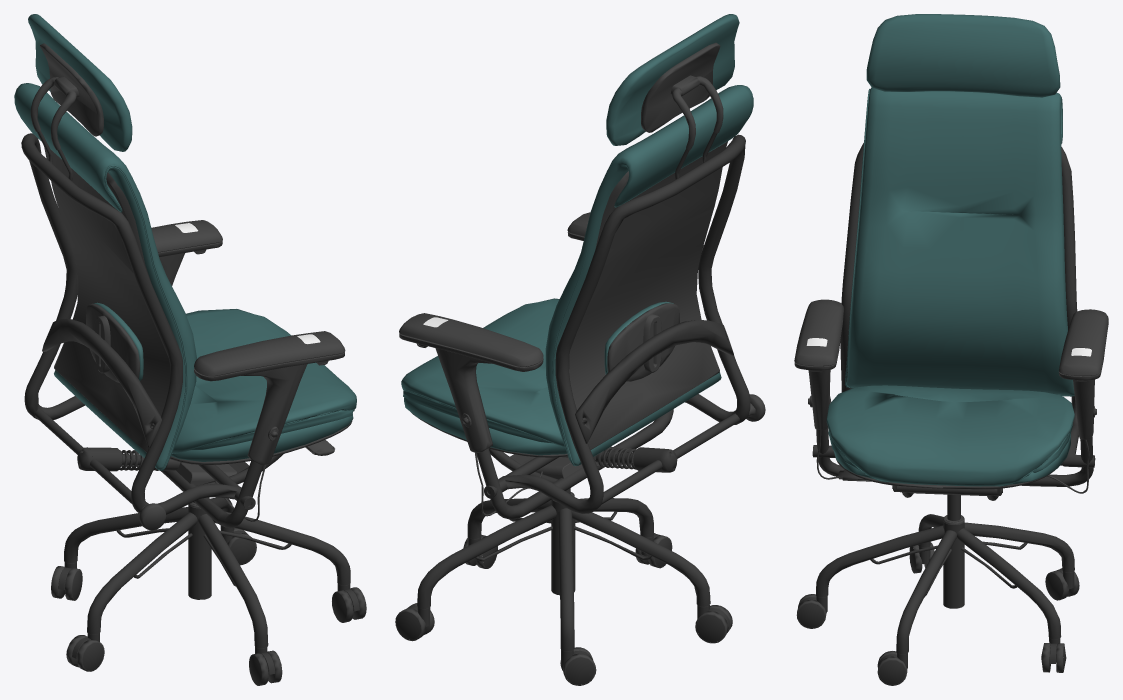
The model's file is chair.glb.
3 views of the same model, side by side, from view 1: azimuth 30°, elevation 25°; view 2: azimuth 150°, elevation 25°; view 3: azimuth 270°, elevation 25° (orthographic). The views are drawn at different scales.
Visible parts, largest first — view 1: Obj3d66-9787757-324-493, Obj3d66-9787757-326-287, Obj3d66-9787757-325-877; view 2: Obj3d66-9787757-324-493, Obj3d66-9787757-326-287, Obj3d66-9787757-325-877; view 3: Obj3d66-9787757-325-877, Obj3d66-9787757-326-287, Obj3d66-9787757-324-493.
Boxes of the visible parts, x1,y1,x2,y2 form: Obj3d66-9787757-324-493: (30, 43, 366, 685); Obj3d66-9787757-326-287: (21, 130, 359, 684); Obj3d66-9787757-325-877: (14, 14, 356, 470); Obj3d66-9787757-324-493: (395, 42, 765, 685); Obj3d66-9787757-326-287: (396, 132, 750, 684); Obj3d66-9787757-325-877: (401, 14, 753, 466); Obj3d66-9787757-325-877: (826, 14, 1074, 486); Obj3d66-9787757-326-287: (798, 143, 1095, 684); Obj3d66-9787757-324-493: (794, 299, 1108, 685).
Bounding box in the file's own units: 0.6091 × 1.26 × 0.6445.
